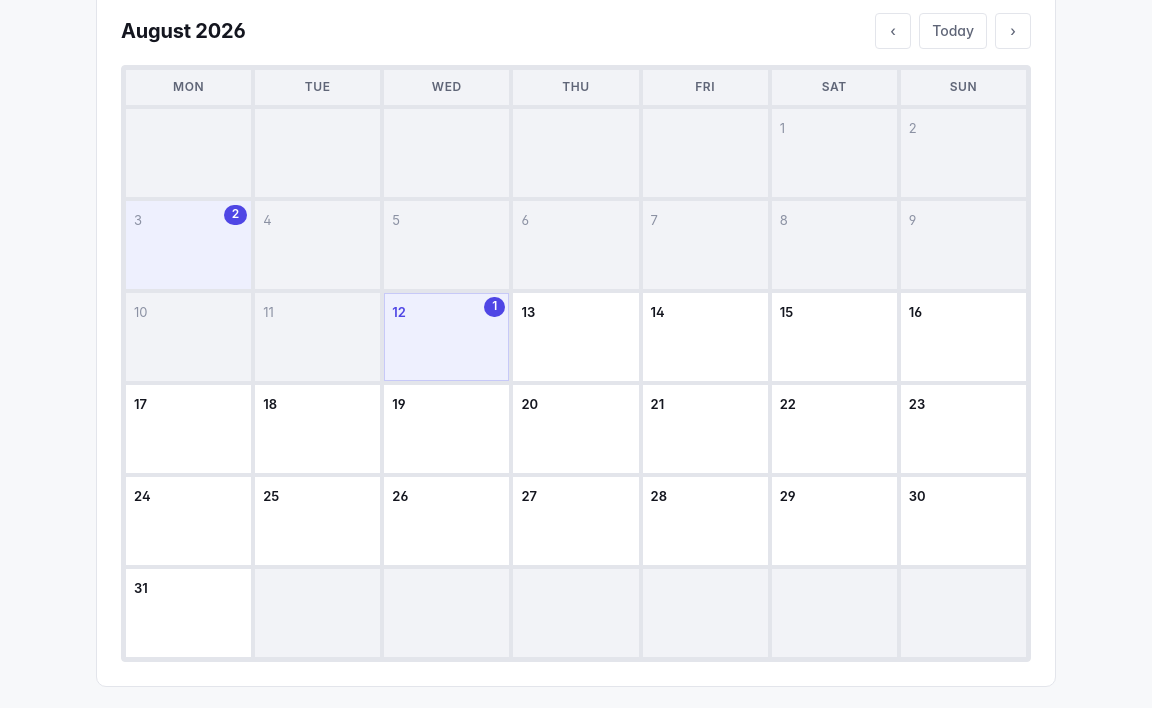
it: Calendar page › opens a day and lists the notes filed under it
What coordinates should you click on to do the following:
click the element with class "today"
I would click on:
 (447, 337)
Its box is [384,293,509,381].
(page scrolled)
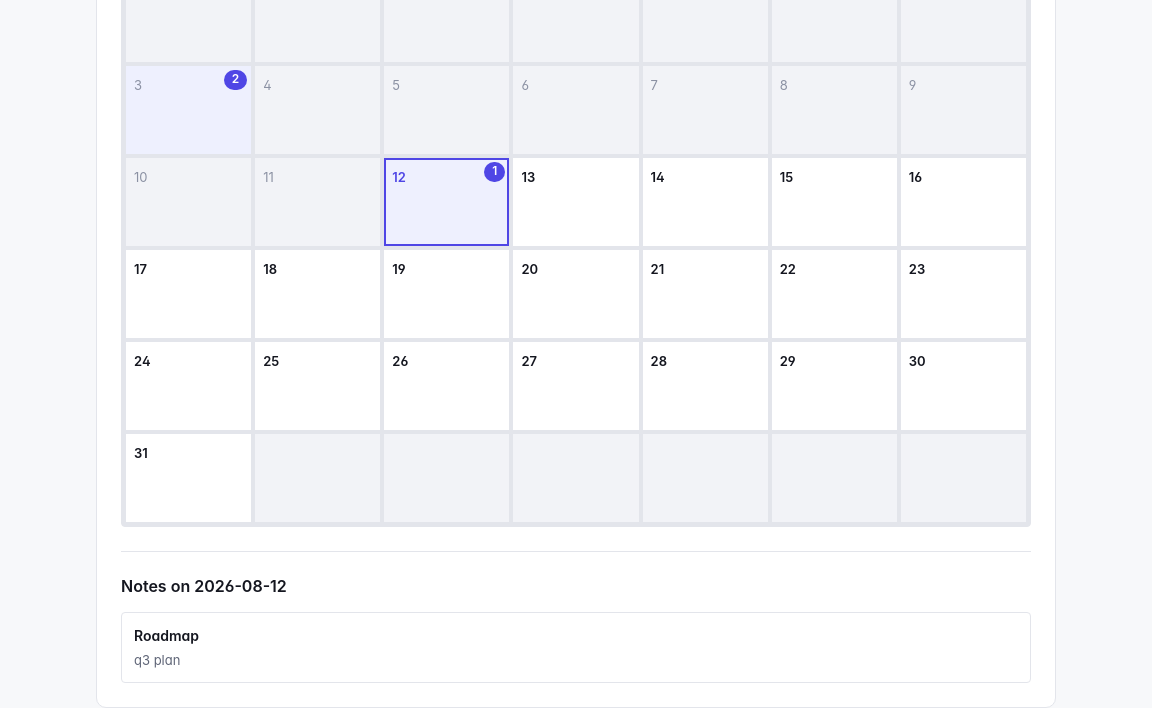
Expected: the text "Roadmap" is shown, [134,627,199,644]
Expected: the text "q3 plan" is shown, [134,652,180,668]
